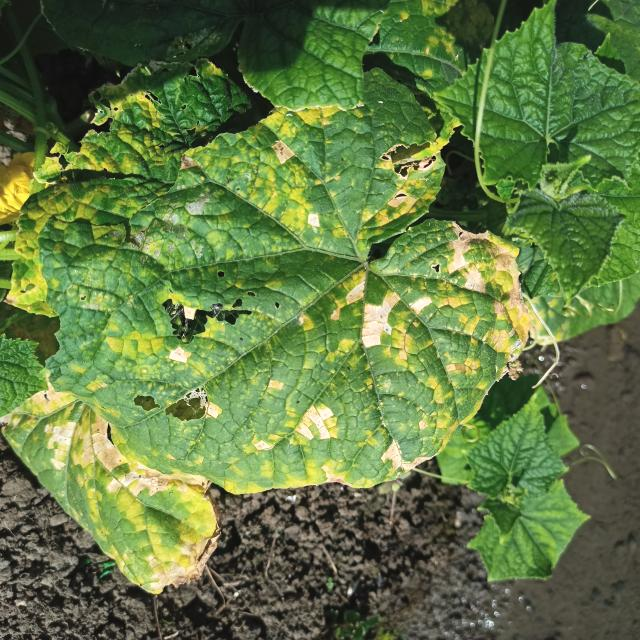disease_cucumber: (57, 99, 524, 490), (0, 398, 204, 576)
